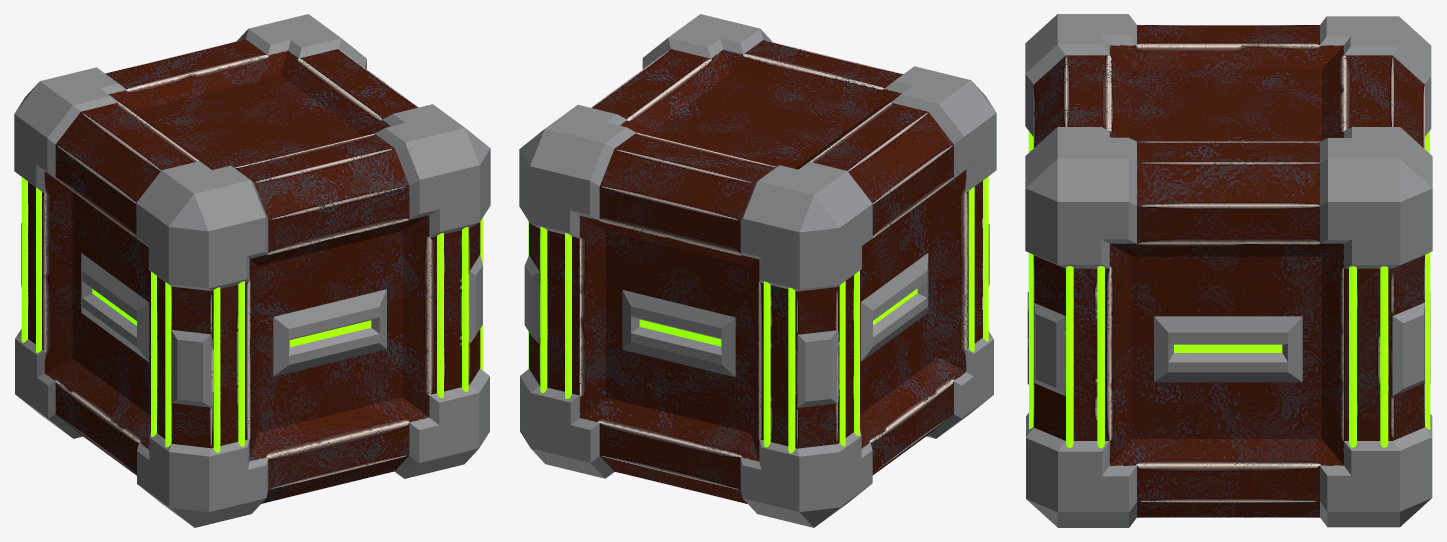
Rendered from vault.glb.
3 renders of one model, left to right at view 1: azimuth 30°, elevation 25°; view 2: azimuth 150°, elevation 25°; view 3: azimuth 270°, elevation 25°, orthographic. The views are drawn at different scales.
Parts seen in each view (by area): view 1: cajalowprueba2_0; view 2: cajalowprueba2_0; view 3: cajalowprueba2_0.
Part boxes in pixels (x1,y1,x2,y2): cajalowprueba2_0: (14,14,490,527); cajalowprueba2_0: (519,14,996,527); cajalowprueba2_0: (1025,14,1432,527).
Size of the model in its own units: 2.09 by 2.08 by 2.08.
Materials: 1 (1 with a texture image).
